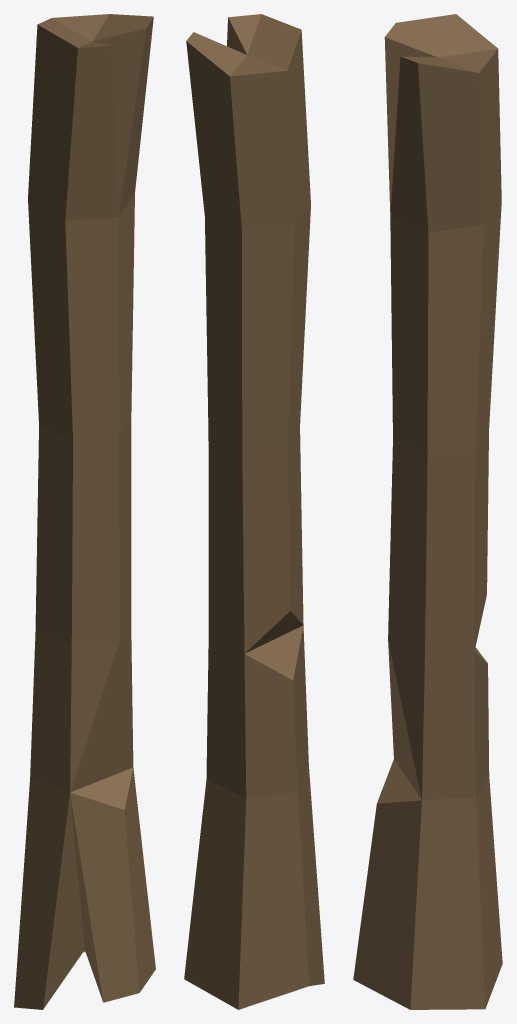
The model's file is SM_Prop_Sign_Post_05.fbx.
3 views of the same model, side by side, from view 1: azimuth 30°, elevation 25°; view 2: azimuth 210°, elevation 25°; view 3: azimuth 270°, elevation 25° (orthographic).
Parts seen in each view (by area): view 1: SM_Prop_Sign_Post_05; view 2: SM_Prop_Sign_Post_05; view 3: SM_Prop_Sign_Post_05.
Boxes of the visible parts, x1,y1,x2,y2 form: SM_Prop_Sign_Post_05: (14, 14, 155, 1009); SM_Prop_Sign_Post_05: (184, 14, 324, 1009); SM_Prop_Sign_Post_05: (353, 14, 502, 1009).
Bounding box in the file's own units: 17.97 × 133 × 18.6.
